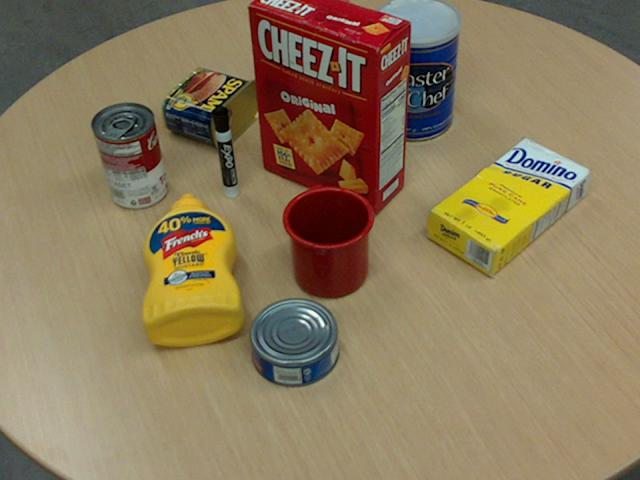cracker_box: (248, 0, 411, 212)
gelatin_box: (260, 46, 340, 110)
large_marker: (211, 105, 238, 199)
master_chef_can: (372, 0, 460, 142)
mug: (280, 185, 374, 297)
mustard_bottle: (141, 193, 243, 345)
potted_meat_can: (162, 67, 262, 149)
sugar_box: (426, 138, 590, 276)
tomato_soup_can: (91, 100, 166, 207)
tuna_fish_can: (249, 298, 339, 386)
